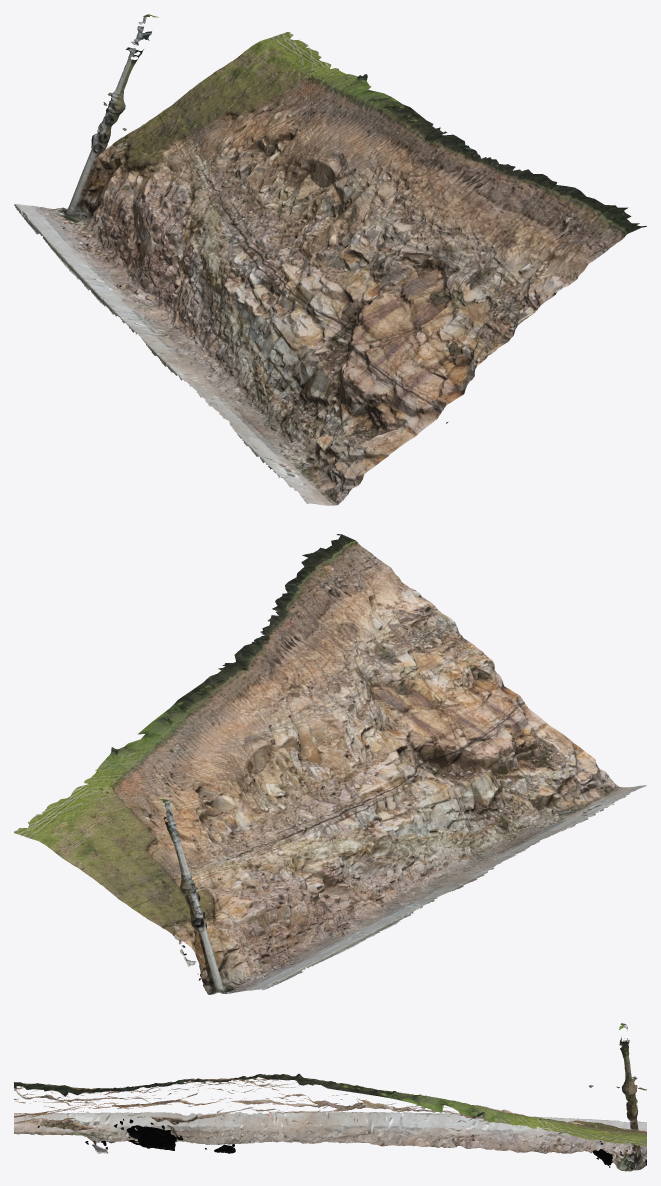
3 views of the same model, one above another, from view 1: azimuth 30°, elevation 25°; view 2: azimuth 150°, elevation 25°; view 3: azimuth 270°, elevation 25° (orthographic). The views are drawn at different scales.
Bounding box in the file's own units: 11.44 × 6.5 × 20.22.
2 materials, 2 textured.
